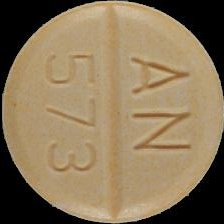55700-272: (0, 0, 224, 224)
